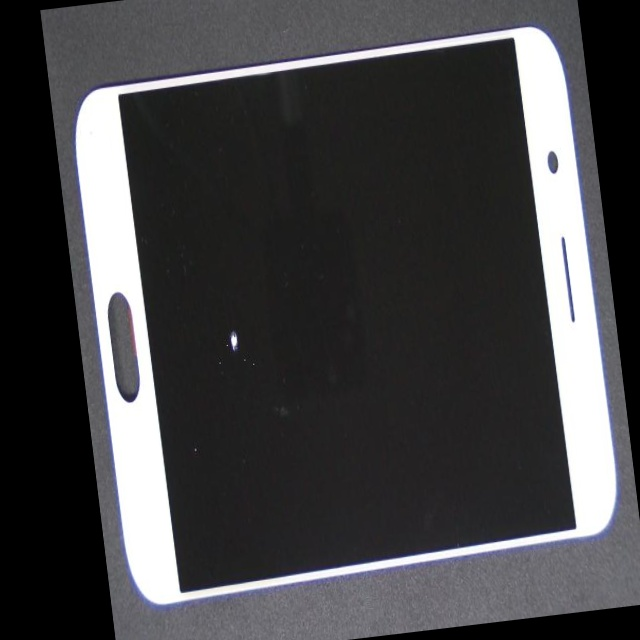stain: (136, 187, 326, 610)
